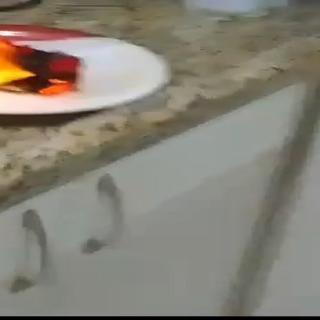fire: (0, 18, 83, 99)
